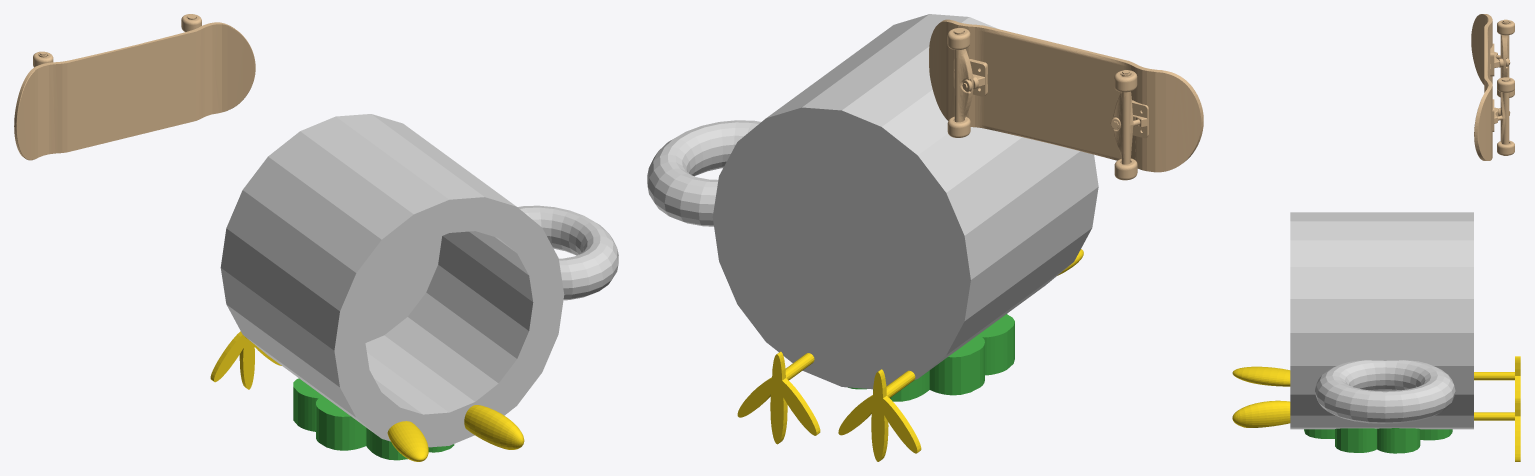
The model's file is tinker.obj.
The picture shows the model from 3 angles, left to right: view 1: azimuth 30°, elevation 25°; view 2: azimuth 150°, elevation 25°; view 3: azimuth 270°, elevation 25°; orthographic projection. The views are drawn at different scales.
Visible parts, largest first — view 1: group_0_16448250, group_0_14860437, group_0_16768282, group_0_4634441; view 2: group_0_16448250, group_0_14860437, group_0_16768282, group_0_4634441; view 3: group_0_16448250, group_0_14860437, group_0_16768282, group_0_4634441.
Boxes of the visible parts, left/top/right/bottom form: group_0_16448250: left=220, top=114, right=618, bottom=447; group_0_14860437: left=14, top=14, right=255, bottom=160; group_0_16768282: left=210, top=331, right=524, bottom=461; group_0_4634441: left=293, top=378, right=454, bottom=460; group_0_16448250: left=647, top=14, right=1098, bottom=389; group_0_14860437: left=929, top=19, right=1203, bottom=180; group_0_16768282: left=737, top=249, right=1083, bottom=461; group_0_4634441: left=848, top=314, right=1014, bottom=401; group_0_16448250: left=1290, top=212, right=1473, bottom=429; group_0_14860437: left=1471, top=14, right=1514, bottom=160; group_0_16768282: left=1232, top=356, right=1520, bottom=461; group_0_4634441: left=1304, top=428, right=1452, bottom=453.
Size of the model in its own units: 182 by 130 by 105.
